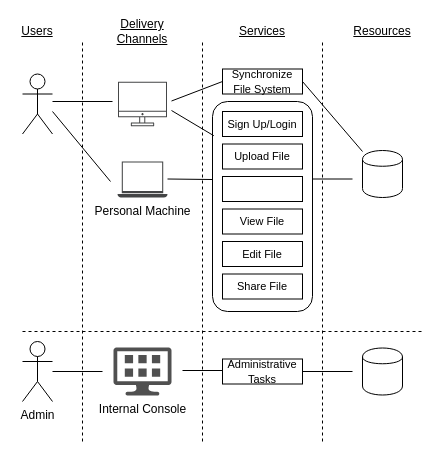
Image size: 441x460. Some labels were removed from this diagram. Here are the shapes that lost their labels. From the top down, the centre of each, then its label:
At (x=37, y=103): "User".
At (x=142, y=103): "DCU Machine".
At (x=262, y=189): "Download File".
At (x=382, y=174): "Personal DB".
At (x=382, y=371): "Admin DB".
